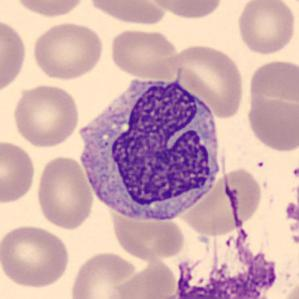Monocyte: (73, 70, 227, 227)
Platelets: (282, 196, 299, 245), (283, 199, 298, 224), (289, 164, 299, 181)
RBC: (171, 42, 247, 120), (177, 169, 247, 238), (0, 222, 71, 290), (10, 82, 82, 149), (34, 154, 95, 231), (30, 20, 105, 81), (108, 210, 189, 262), (108, 26, 181, 80), (69, 249, 140, 299), (236, 0, 299, 56), (112, 252, 181, 297), (245, 96, 298, 153), (246, 56, 298, 110), (0, 138, 37, 205), (223, 166, 264, 225), (0, 15, 29, 96), (87, 0, 168, 26), (146, 0, 225, 21), (11, 0, 87, 19), (282, 195, 299, 252)
